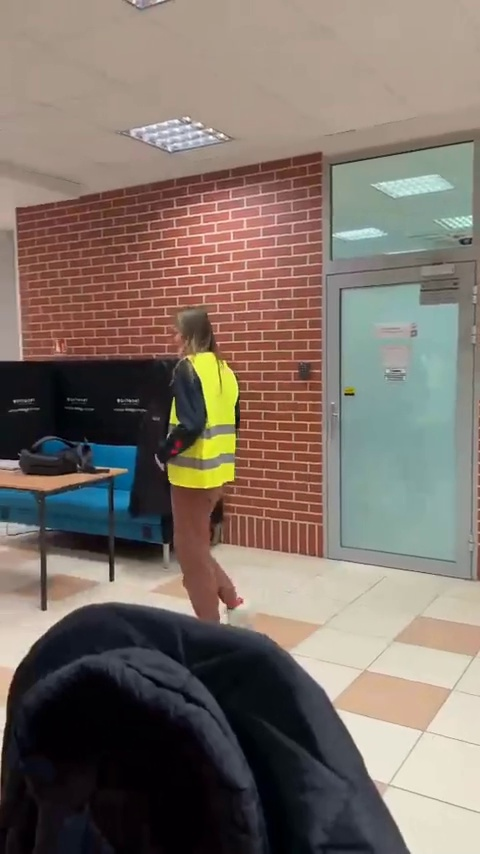vest: (158, 307, 259, 628)
